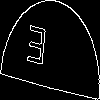E: (25, 24, 47, 75)
